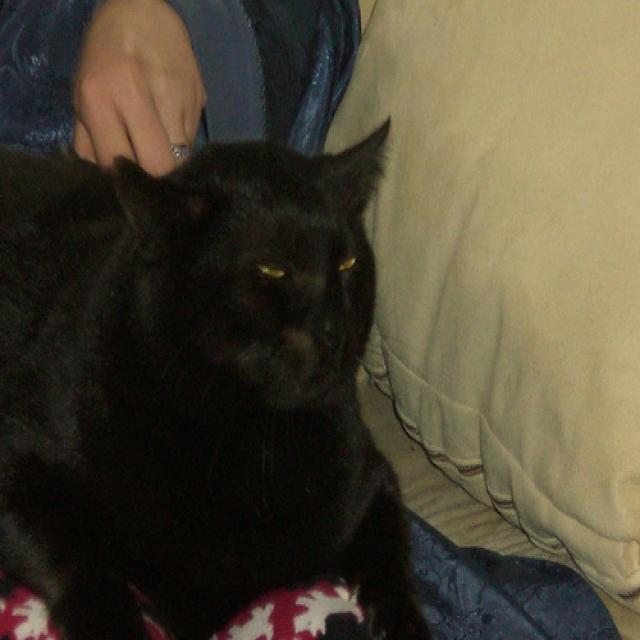Bombay: (102, 121, 413, 433)
